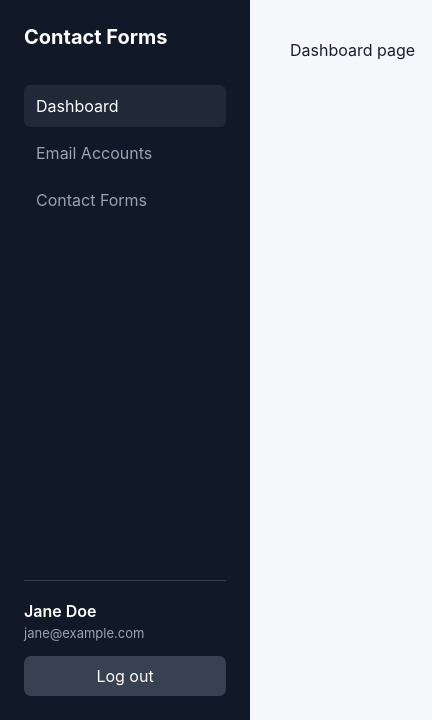
Scenario: Layout › logs out and navigates to login
The image size is (432, 720).
Click the button "Log out".
click(125, 676)  # box [24,656,226,696]
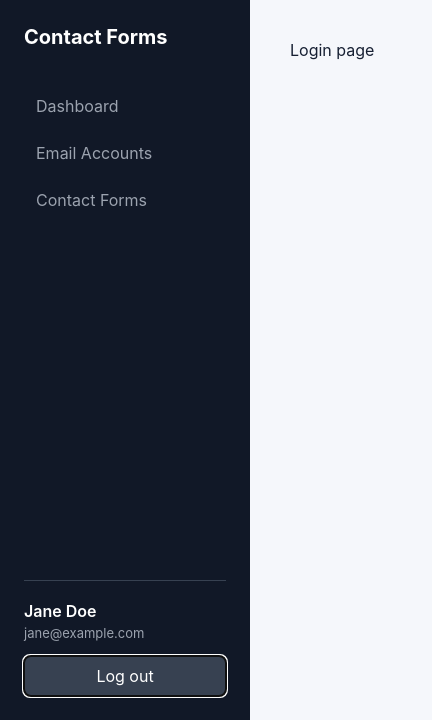
Now the text "Login page" is shown, box [290,40,374,60]
